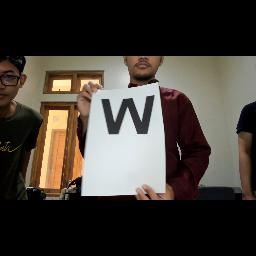w: (100, 95, 156, 139)
